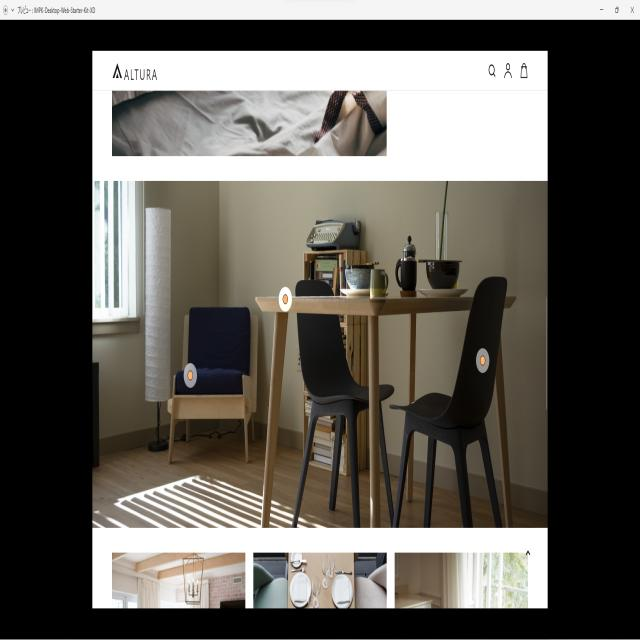radio: (182, 364, 198, 389), (475, 348, 489, 375), (278, 286, 292, 312)
